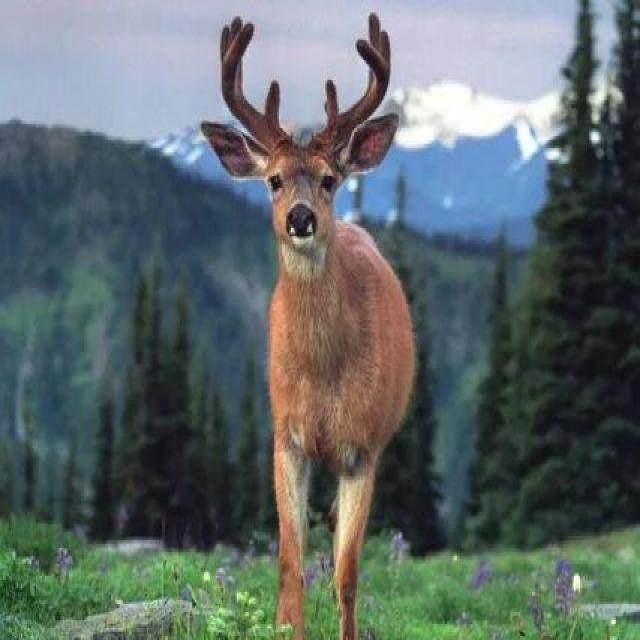deer: (197, 6, 469, 640)
